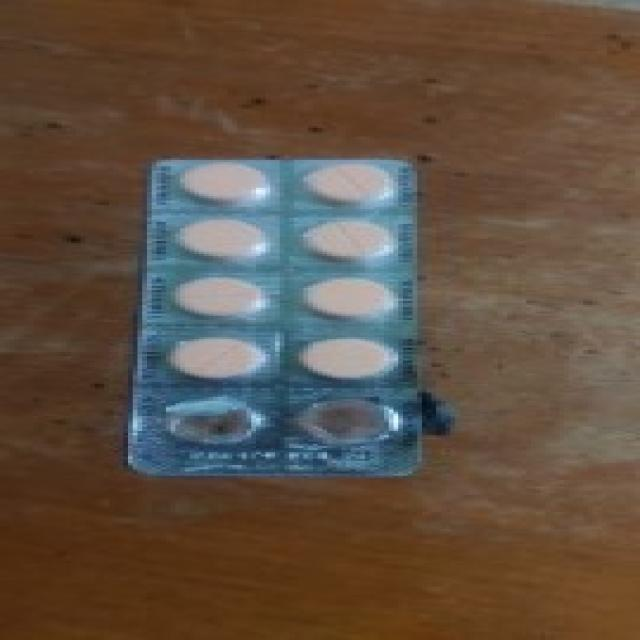Cacat: (123, 155, 415, 479)
Kemasan: (144, 393, 412, 457)
